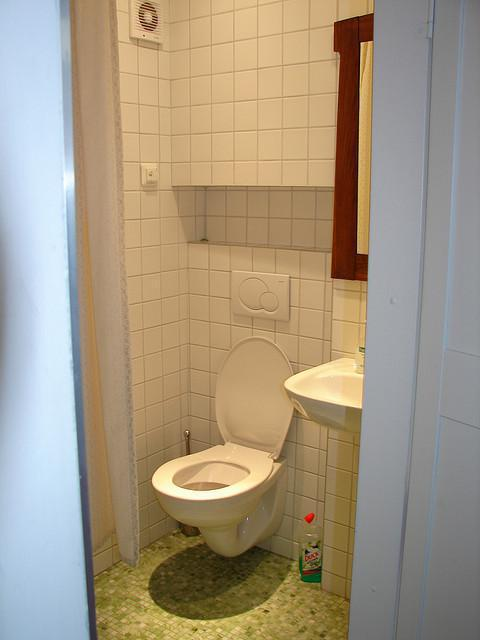Lavamanos: (282, 354, 413, 432)
Sanitario: (147, 334, 305, 560)
